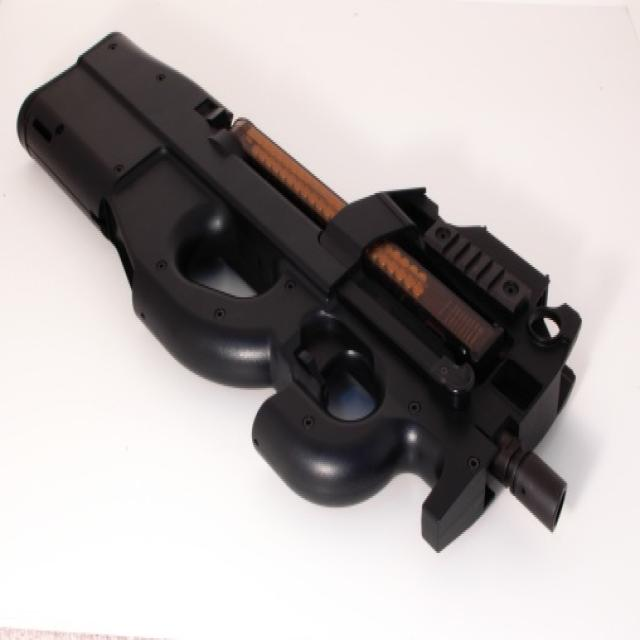SMG: (16, 32, 583, 555)
